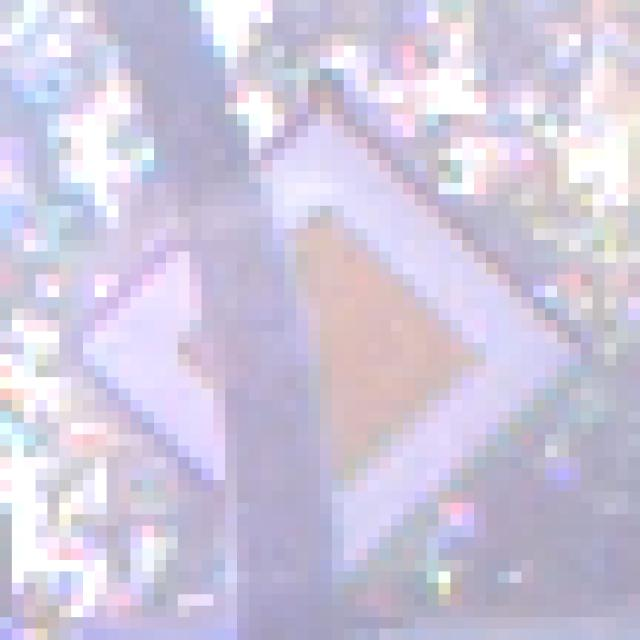Main Road: (60, 70, 582, 573)
